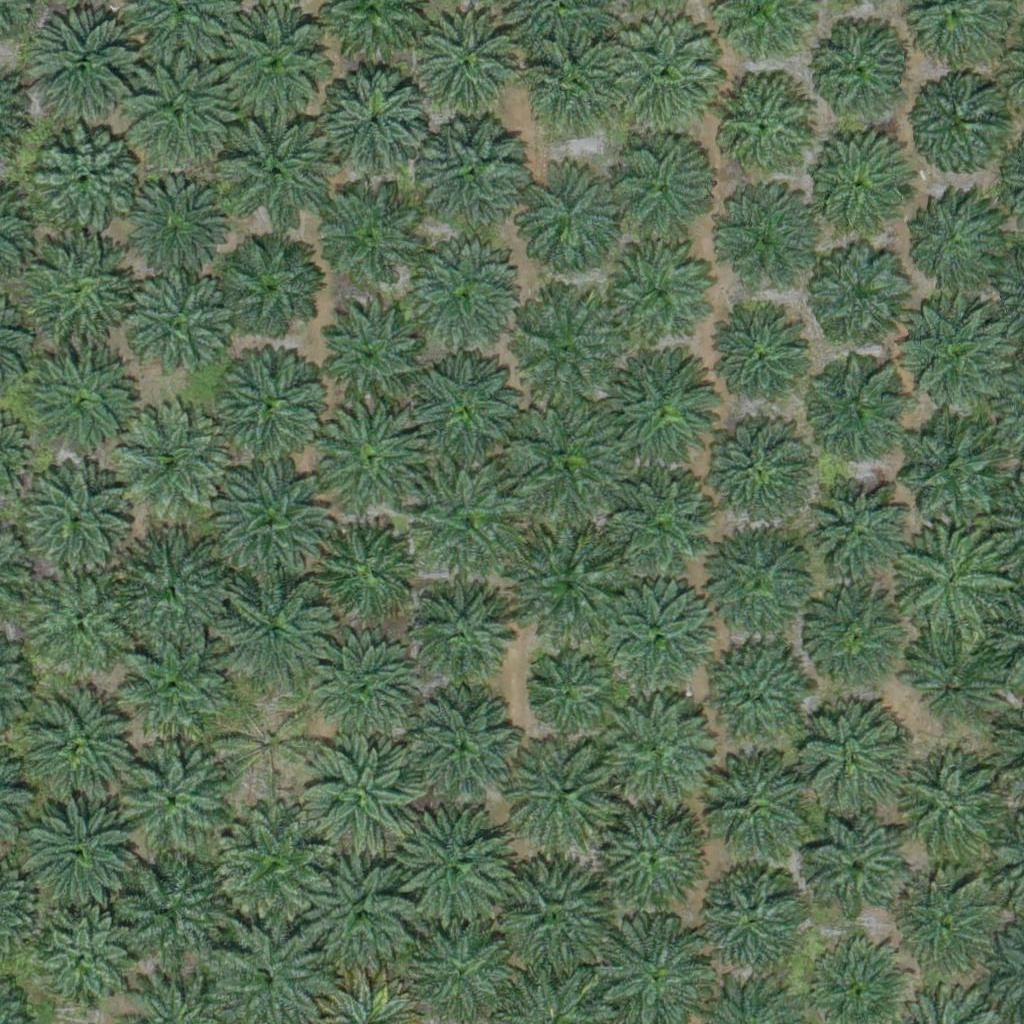Kelapa_Sawit: (597, 16, 722, 142), (14, 233, 139, 359), (24, 343, 149, 469), (593, 468, 718, 594), (507, 525, 632, 651), (9, 451, 134, 577), (607, 238, 720, 352), (511, 160, 624, 274), (600, 351, 713, 465), (602, 803, 715, 917), (508, 737, 621, 851), (312, 400, 425, 514), (407, 690, 520, 804), (410, 8, 523, 121), (122, 63, 235, 176), (216, 6, 329, 119), (902, 297, 1015, 410), (508, 295, 621, 408), (321, 300, 434, 413), (214, 346, 327, 459), (220, 121, 333, 234), (116, 166, 229, 279), (896, 757, 1009, 870), (799, 586, 912, 699), (794, 708, 907, 821), (701, 416, 814, 529), (702, 529, 815, 642), (494, 862, 607, 975), (395, 807, 508, 920), (25, 562, 138, 675), (112, 855, 225, 968), (120, 747, 233, 860), (116, 630, 229, 743), (110, 532, 223, 645), (216, 808, 329, 921), (410, 460, 523, 573), (23, 11, 135, 125), (605, 127, 717, 241), (417, 115, 529, 229), (116, 401, 228, 515), (216, 461, 328, 575), (311, 638, 423, 752), (710, 76, 822, 189), (320, 71, 432, 184), (704, 185, 816, 298), (312, 188, 424, 301), (408, 249, 520, 362), (412, 351, 524, 464), (125, 275, 237, 388), (31, 124, 143, 237), (899, 416, 1011, 529), (700, 647, 812, 760), (697, 755, 809, 868), (601, 583, 713, 696), (600, 694, 712, 807), (509, 405, 621, 518), (28, 686, 140, 799), (24, 793, 136, 906), (218, 573, 330, 686), (303, 857, 415, 970), (304, 735, 416, 848), (219, 695, 319, 796), (907, 191, 1007, 292), (807, 131, 907, 232), (813, 241, 913, 342), (222, 238, 322, 339), (902, 533, 1002, 634), (908, 627, 1008, 728), (896, 874, 996, 975), (802, 363, 902, 464), (813, 480, 913, 581), (804, 814, 904, 915), (36, 913, 136, 1014), (919, 71, 1019, 171), (809, 23, 909, 123), (715, 312, 815, 412), (699, 868, 799, 968), (314, 522, 414, 622), (413, 580, 513, 680), (527, 656, 602, 732), (530, 47, 605, 122)
